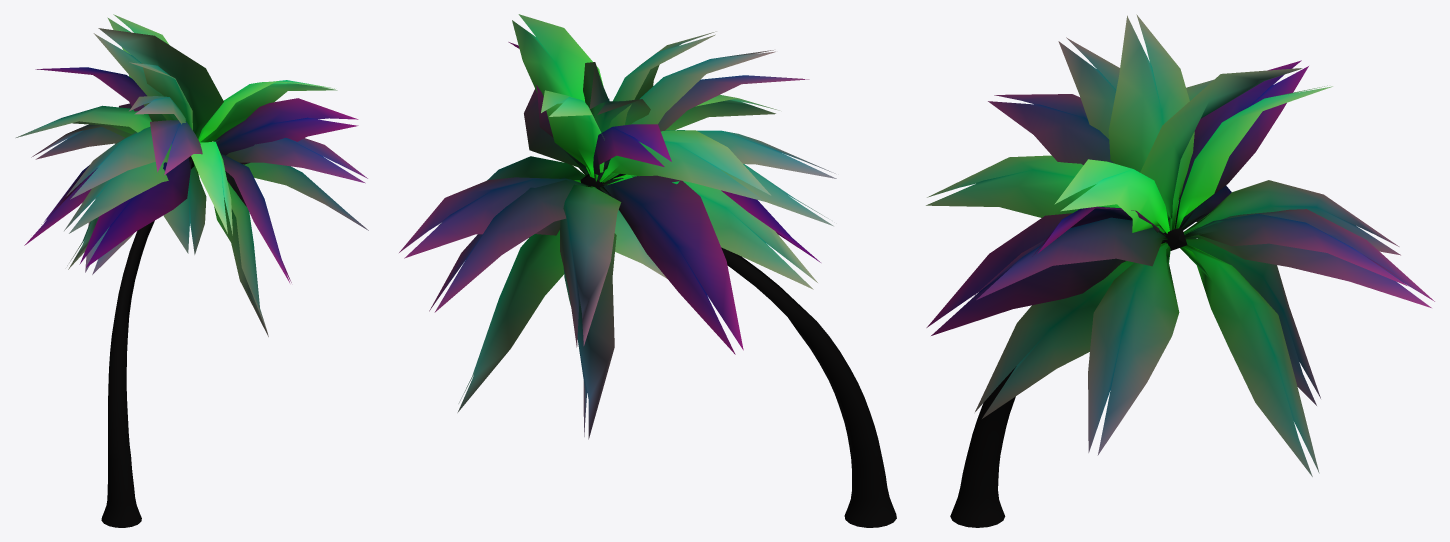
Rendered from Palm.fbx.
The picture shows the model from 3 angles, left to right: view 1: azimuth 30°, elevation 25°; view 2: azimuth 150°, elevation 25°; view 3: azimuth 270°, elevation 25°; orthographic projection. The views are drawn at different scales.
Visible parts, largest first — view 1: Tree_8; view 2: Tree_8; view 3: Tree_8.
Part boxes in pixels (<box>): Tree_8: <box>16,14,368,527</box>; Tree_8: <box>399,14,896,527</box>; Tree_8: <box>926,14,1434,527</box>.
Size of the model in its own units: 1526 by 1899 by 1621.
